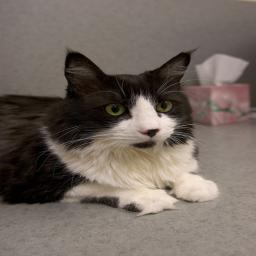catnose: (138, 128, 160, 137)
